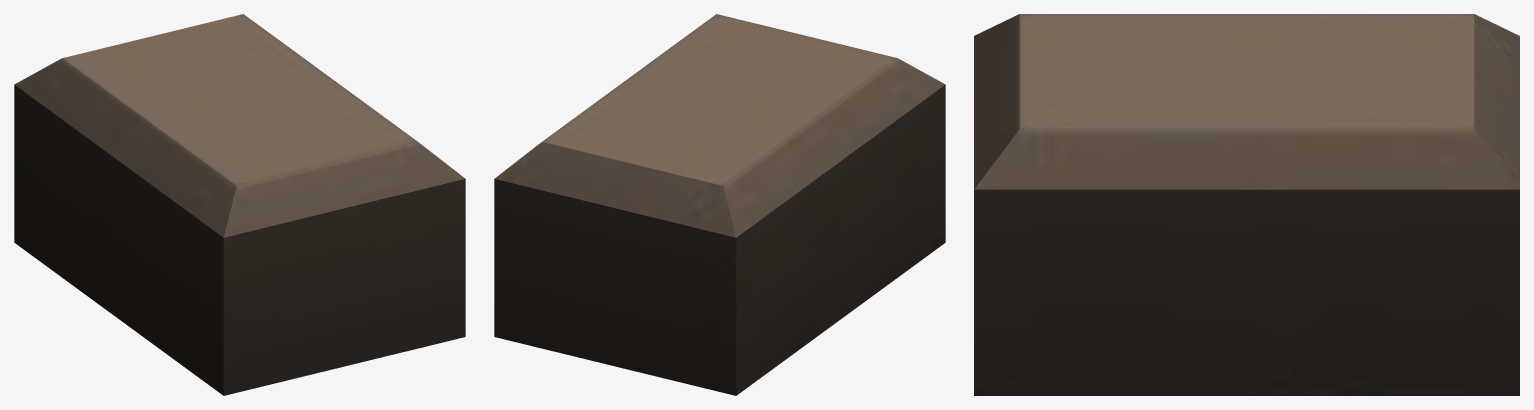
File: pump.glb
3 renders of one model, left to right at view 1: azimuth 30°, elevation 25°; view 2: azimuth 150°, elevation 25°; view 3: azimuth 270°, elevation 25°, orthographic. The views are drawn at different scales.
Visible parts, largest first — view 1: pump; view 2: pump; view 3: pump.
Boxes of the visible parts, x1,y1,x2,y2 form: pump: [14, 14, 465, 395]; pump: [494, 14, 945, 395]; pump: [974, 14, 1519, 395].
Bounding box in the file's own units: 0.16 × 0.12 × 0.24.
1 material, 1 textured.
